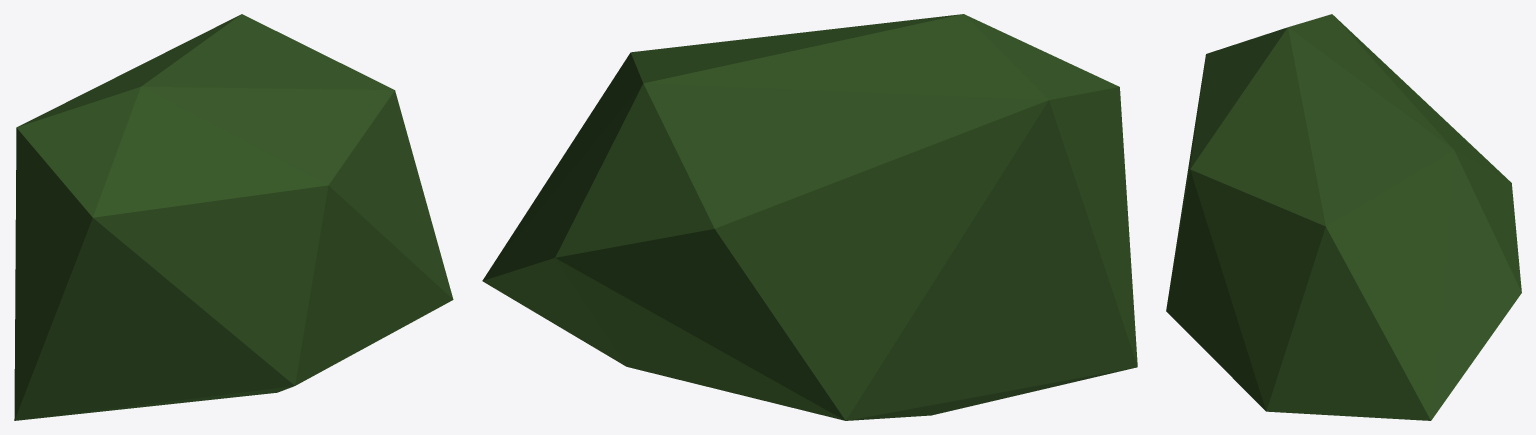
File: SM_bush_04.fbx
The picture shows the model from 3 angles, left to right: view 1: azimuth 30°, elevation 25°; view 2: azimuth 150°, elevation 25°; view 3: azimuth 270°, elevation 25°; orthographic projection. The views are drawn at different scales.
Visible parts, largest first — view 1: Object131; view 2: Object131; view 3: Object131.
Part boxes in pixels (x1,y1,x2,y2): Object131: [14, 14, 453, 420]; Object131: [482, 14, 1137, 420]; Object131: [1166, 14, 1521, 420].
Size of the model in its own units: 72.4 by 45.92 by 50.35.
